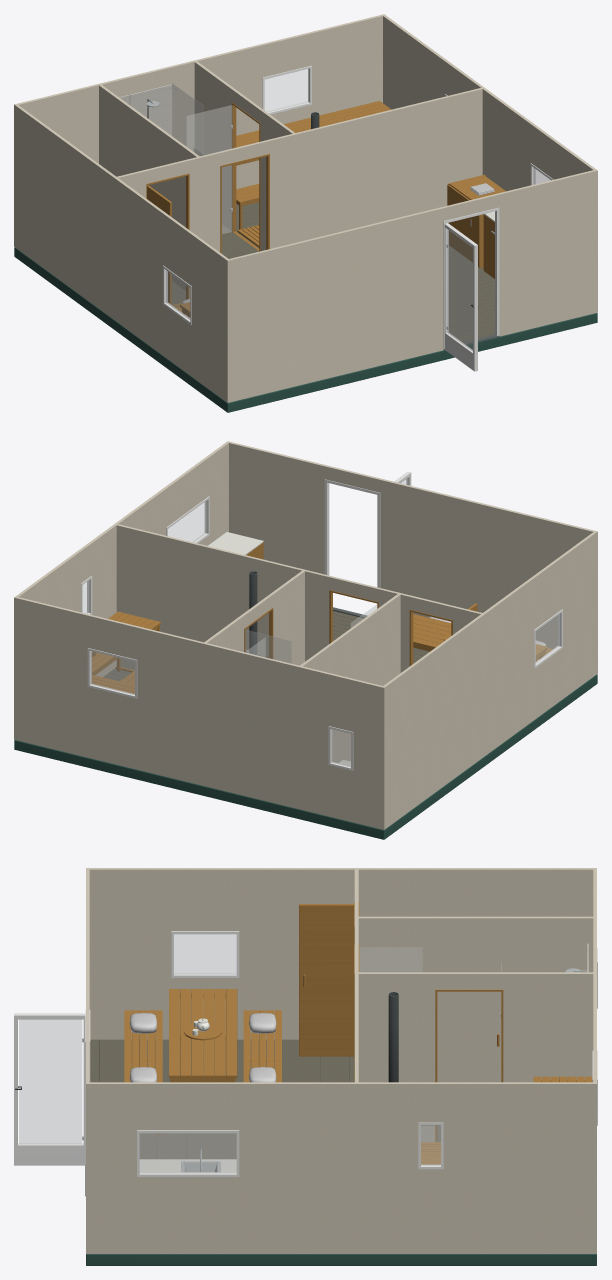
3 renders of one model, top to bottom at view 1: azimuth 30°, elevation 25°; view 2: azimuth 150°, elevation 25°; view 3: azimuth 270°, elevation 25°, orthographic. The views are drawn at different scales.
Parts seen in each view (by area): view 1: Wall front band 2, Wall front band 6, Wall front band 9, Wall front band 1, Foundation, Wall front band 10, Wall top_8_0005 band 10, Wall rear band 10, Wall rear band 9, Wall top_8_0005 band 9, Wall top_8_0005 band 6, Wall left band 2 (+55 smaller); view 2: Wall rear band 2, Wall rear band 9, Wall rear band 1, Foundation, Wall rear band 6, Wall front band 9, Wall rear band 10, Wall front band 10, Wall top_8_0005 band 10, Wall front band 6, Wall rear band 4, Wall left band 2 (+47 smaller); view 3: Wall right band 2, Wall right band 9, Wall left band 9, Wall right band 1, Wall right band 10, Wall right band 6, Wall left band 10, Wall right band 4, Single timber leaf, Single PVC glass panel, Foundation, Wall right band 7 (+51 smaller).
Boxes of the visible parts, box(x1,y1,x2,y2) form: Wall front band 2: box(226, 264, 597, 375); Wall front band 6: box(226, 222, 597, 331); Wall front band 9: box(226, 183, 597, 292); Wall front band 1: box(226, 285, 597, 393); Foundation: box(14, 247, 597, 412); Wall front band 10: box(226, 169, 597, 273); Wall top_8_0005 band 10: box(117, 88, 482, 187); Wall rear band 10: box(14, 14, 385, 118); Wall rear band 9: box(14, 29, 382, 137); Wall top_8_0005 band 9: box(132, 102, 482, 197); Wall top_8_0005 band 6: box(189, 140, 482, 230); Wall left band 2: box(15, 199, 225, 374); Wall rear band 2: box(14, 691, 385, 802); Wall rear band 9: box(14, 610, 385, 719); Wall rear band 1: box(14, 712, 385, 820); Foundation: box(14, 674, 597, 839); Wall rear band 6: box(14, 649, 385, 758); Wall front band 9: box(229, 456, 597, 564); Wall rear band 10: box(14, 596, 385, 700); Wall front band 10: box(226, 441, 597, 545); Wall top_8_0005 band 10: box(116, 524, 482, 623); Wall front band 6: box(229, 494, 597, 603); Wall rear band 4: box(14, 675, 385, 777); Wall left band 2: box(386, 626, 596, 801); Wall right band 2: box(89, 1196, 593, 1221); Wall right band 9: box(89, 1099, 593, 1122); Wall left band 9: box(89, 885, 593, 908); Wall right band 1: box(89, 1221, 593, 1243); Wall right band 10: box(89, 1082, 593, 1099); Wall right band 6: box(89, 1146, 593, 1168); Wall left band 10: box(89, 868, 593, 884); Wall right band 4: box(89, 1176, 593, 1192); Single timber leaf: box(299, 904, 353, 1056); Single PVC glass panel: box(19, 1019, 81, 1143); Foundation: box(86, 1254, 596, 1265); Wall right band 7: box(89, 1130, 593, 1145).
Size of the model in its own units: 6.02 by 2.36 by 6.85.
Materials: 35 (16 with a texture image).
